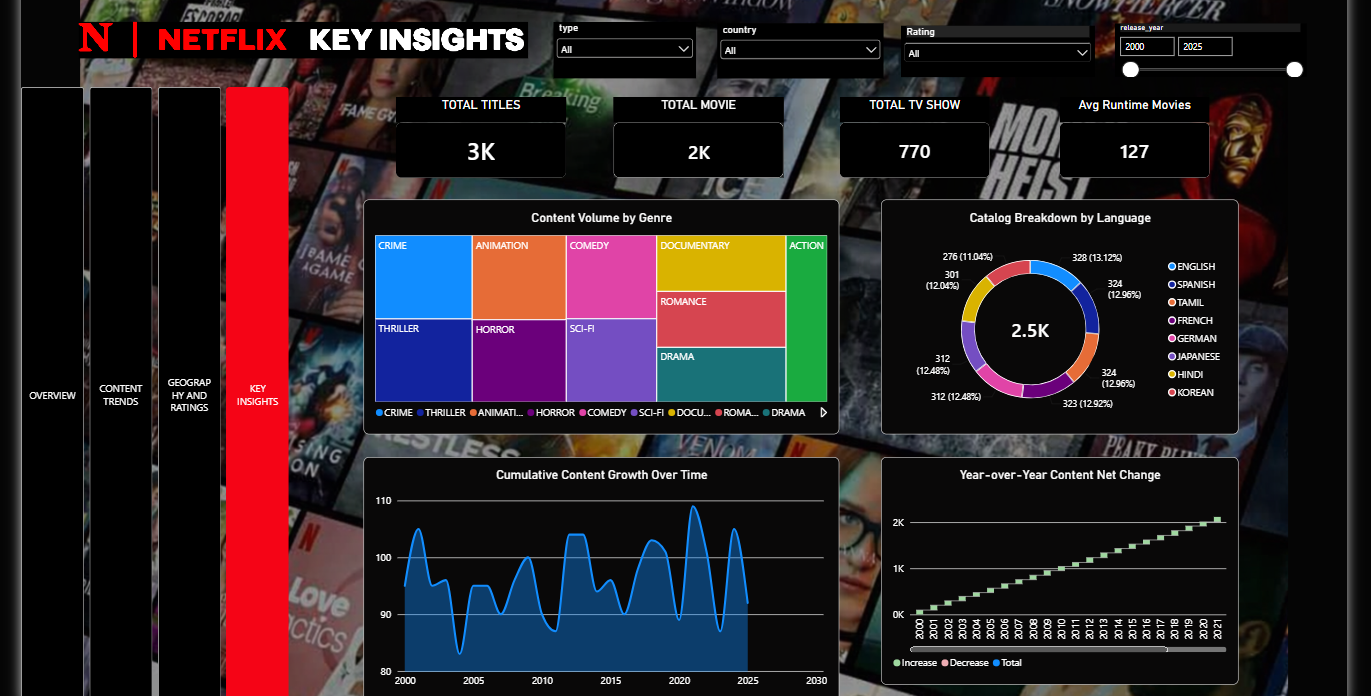

The dashboard page shown, as its layout file describes it:
{"tool":"powerbi","page":{"name":"KEY INSIGHTS","canvas":[1920,1080],"ordinal":3},"visuals":[{"type":"image","box":[0,0,1920.1,1080.4],"z":0},{"type":"cardVisual","title":"TOTAL MOVIES","fields":{"Data":["netflix_real_time_project_dataset.total Movies"]},"box":[436.2,292.2,217.2,103.2],"z":1000},{"type":"cardVisual","title":"MOVIE %","fields":{"Data":["netflix_real_time_project_dataset.movie %"]},"box":[436.1,457.8,217.2,121.2],"z":2000},{"type":"cardVisual","title":"TOTAL TV SHOW","fields":{"Data":["netflix_real_time_project_dataset.total TV Shows"]},"box":[436.1,617.1,217.2,99.5],"z":3000},{"type":"cardVisual","title":"TV SHOW %","fields":{"Data":["netflix_real_time_project_dataset.TV Show %"]},"box":[436.1,781.8,217.2,117.6],"z":4000},{"type":"slicer","fields":{"Values":["netflix_real_time_project_dataset.type"]},"box":[770.9,94.1,206.3,81.4],"z":5000},{"type":"slicer","fields":{"Values":["netflix_real_time_project_dataset.country"]},"box":[1008,95.9,240.7,79.6],"z":6000},{"type":"slicer","fields":{"Values":["netflix_real_time_project_dataset.release_year"]},"box":[1583.5,95.9,276.9,77.8],"z":7000},{"type":"pageNavigator","box":[0,188.2,389.1,892.2],"z":8000},{"type":"image","box":[467.5,344.3,32.6,39.8],"z":9000},{"type":"image","box":[438.3,517.6,63.3,43.4],"z":10000},{"type":"image","box":[457.8,647.9,32.6,68.8],"z":11000},{"type":"image","box":[457.8,818,32.6,81.4],"z":12000},{"type":"slicer","fields":{"Values":["netflix_real_time_project_dataset.rating"]},"box":[1274,99.5,280.5,74.2],"z":13000},{"type":"barChart","title":"Top 10 Genres","fields":{"Category":["netflix_real_time_project_dataset.genre"],"Y":["CountNonNull(netflix_real_time_project_dataset.show_id)"]},"box":[740.9,260.9,488.3,340.2],"z":14000},{"type":"barChart","title":"Top Ratings","fields":{"Category":["netflix_real_time_project_dataset.rating"],"Y":["CountNonNull(netflix_real_time_project_dataset.show_id)"]},"box":[1273,260.9,517.6,340.2],"z":15000},{"type":"columnChart","title":"Content Growth by Year","fields":{"Category":["netflix_real_time_project_dataset.release_year"],"Y":["CountNonNull(netflix_real_time_project_dataset.show_id)"]},"box":[740.9,682.4,488.3,361],"z":16000},{"type":"pivotTable","title":"Country-wise Content","fields":{"Rows":["netflix_real_time_project_dataset.country"],"Values":["Min(netflix_real_time_project_dataset.show_id)","Sum(netflix_real_time_project_dataset.seasons)"]},"box":[1283.5,690.8,507.1,336],"z":17000},{"type":"image","box":[85.1,12.7,655.1,124.9],"z":18000}]}

Visuals, with their boxes on the page's 1920x1080 design canvas (x1, y1, x2, y2). These are canvas units, not pixel positions in the 1371x696 screenshot, which may show the page scaled, cropped or inside an application window:
image: 0:0:1920:1080
"TOTAL MOVIES" cardVisual: 436:292:653:395
"MOVIE %" cardVisual: 436:458:653:579
"TOTAL TV SHOW" cardVisual: 436:617:653:717
"TV SHOW %" cardVisual: 436:782:653:899
slicer - netflix_real_time_project_dataset.type: 771:94:977:176
slicer - netflix_real_time_project_dataset.country: 1008:96:1249:176
slicer - netflix_real_time_project_dataset.release_year: 1584:96:1860:174
pageNavigator: 0:188:389:1080
image: 468:344:500:384
image: 438:518:502:561
image: 458:648:490:717
image: 458:818:490:899
slicer - netflix_real_time_project_dataset.rating: 1274:100:1554:174
"Top 10 Genres" barChart: 741:261:1229:601
"Top Ratings" barChart: 1273:261:1791:601
"Content Growth by Year" columnChart: 741:682:1229:1043
"Country-wise Content" pivotTable: 1284:691:1791:1027
image: 85:13:740:138
